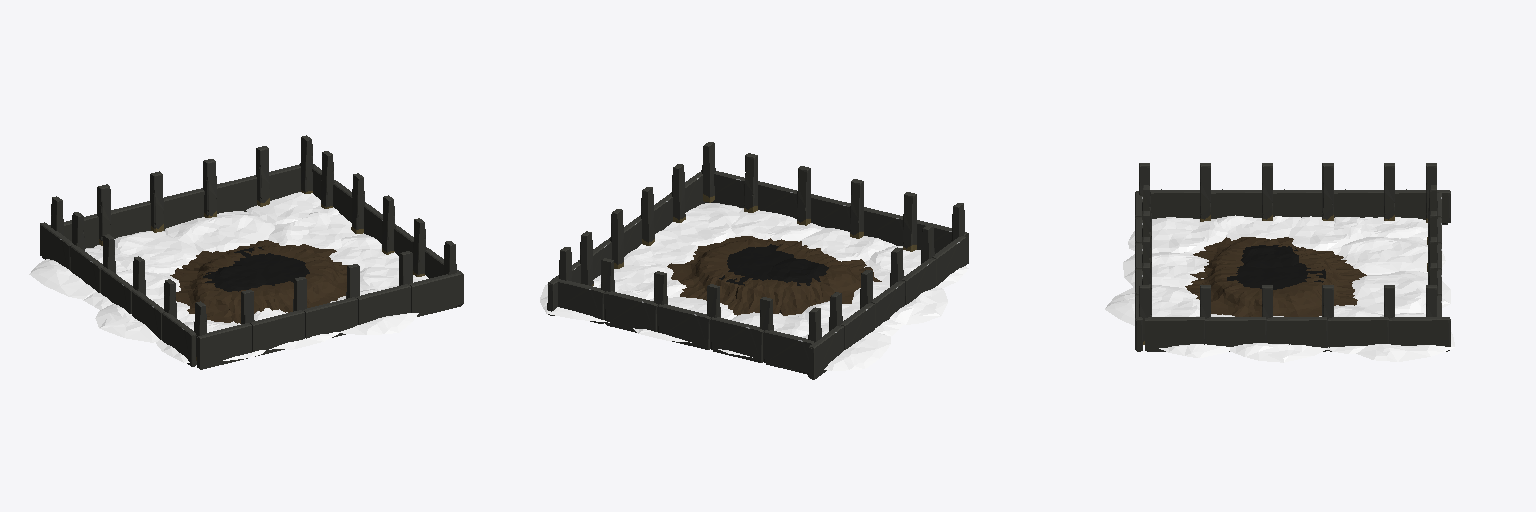
The picture shows the model from 3 angles: view 1: azimuth 30°, elevation 25°; view 2: azimuth 150°, elevation 25°; view 3: azimuth 270°, elevation 25°; orthographic projection.
Parts seen in each view (by area): view 1: SM_Prop_Wall_Quarantine_Top_01.001_Mesh.024; view 2: SM_Prop_Wall_Quarantine_Top_01.001_Mesh.024; view 3: SM_Prop_Wall_Quarantine_Top_01.001_Mesh.024.
Boxes of the visible parts, box(x1,y1,x2,y2) form: SM_Prop_Wall_Quarantine_Top_01.001_Mesh.024: box(29, 135, 463, 369); SM_Prop_Wall_Quarantine_Top_01.001_Mesh.024: box(540, 142, 968, 379); SM_Prop_Wall_Quarantine_Top_01.001_Mesh.024: box(1105, 163, 1454, 362).
Bounding box in the file's own units: 31.17 × 5.76 × 28.7.
7 materials, 1 textured.